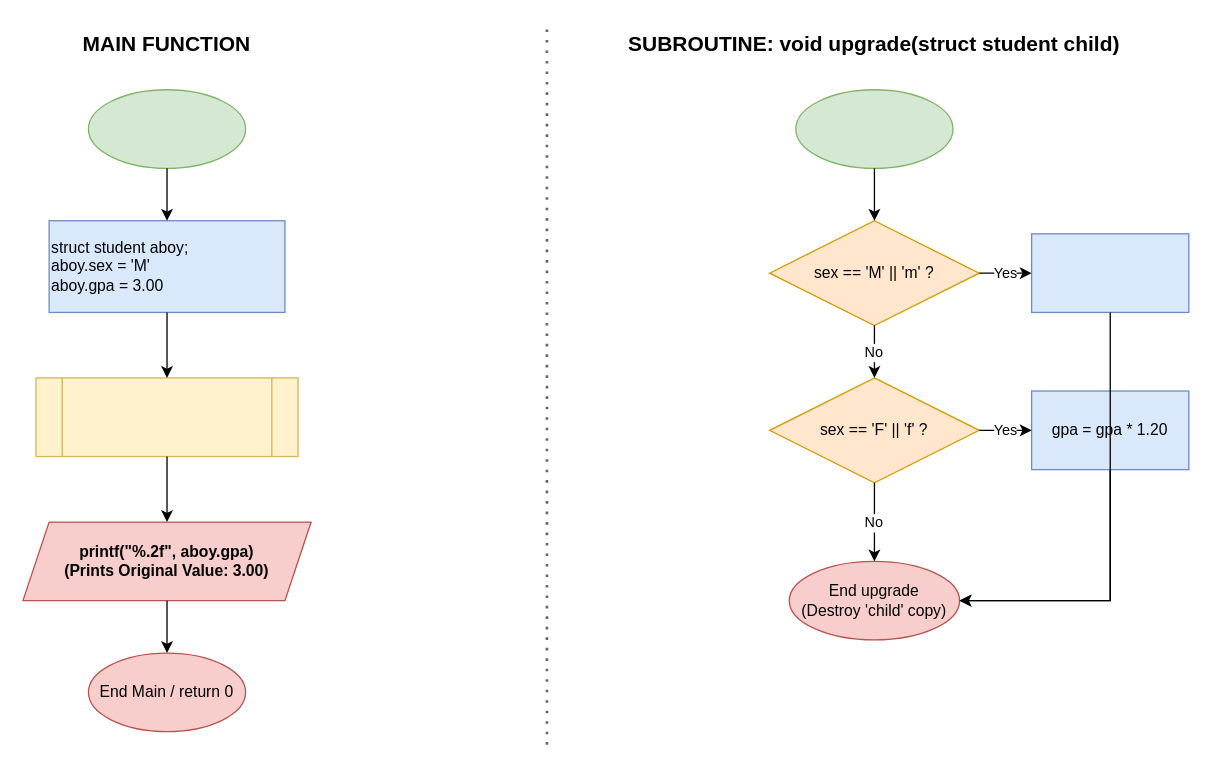
Image size: 1212x769. Some labels were removed from this diagram. Each missing label, with the box of its shape:
gpa = gpa * 1.10: (1030, 233, 1189, 312)
Start Main: (87, 88, 246, 168)
Start upgrade (Receive 'child'): (795, 88, 953, 168)
upgrade(aboy) (Passes COPY of struct): (35, 377, 298, 457)
